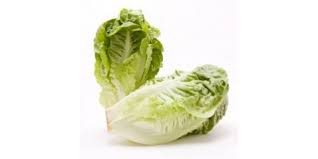Lettuce: (96, 56, 236, 148), (85, 7, 160, 105)
